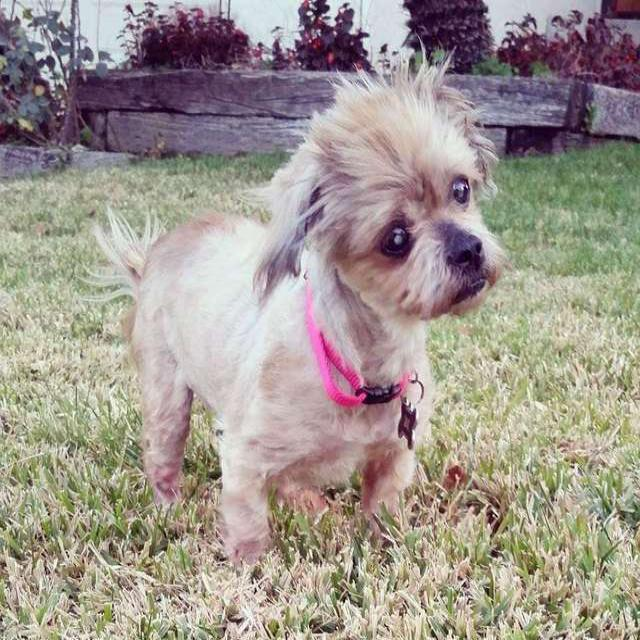eye: (377, 220, 414, 261), (445, 171, 474, 210)
